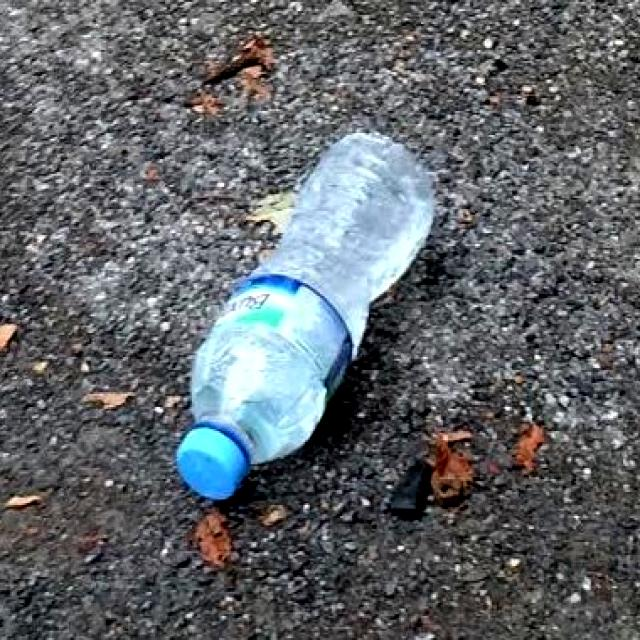Plastic: (162, 123, 451, 506)
